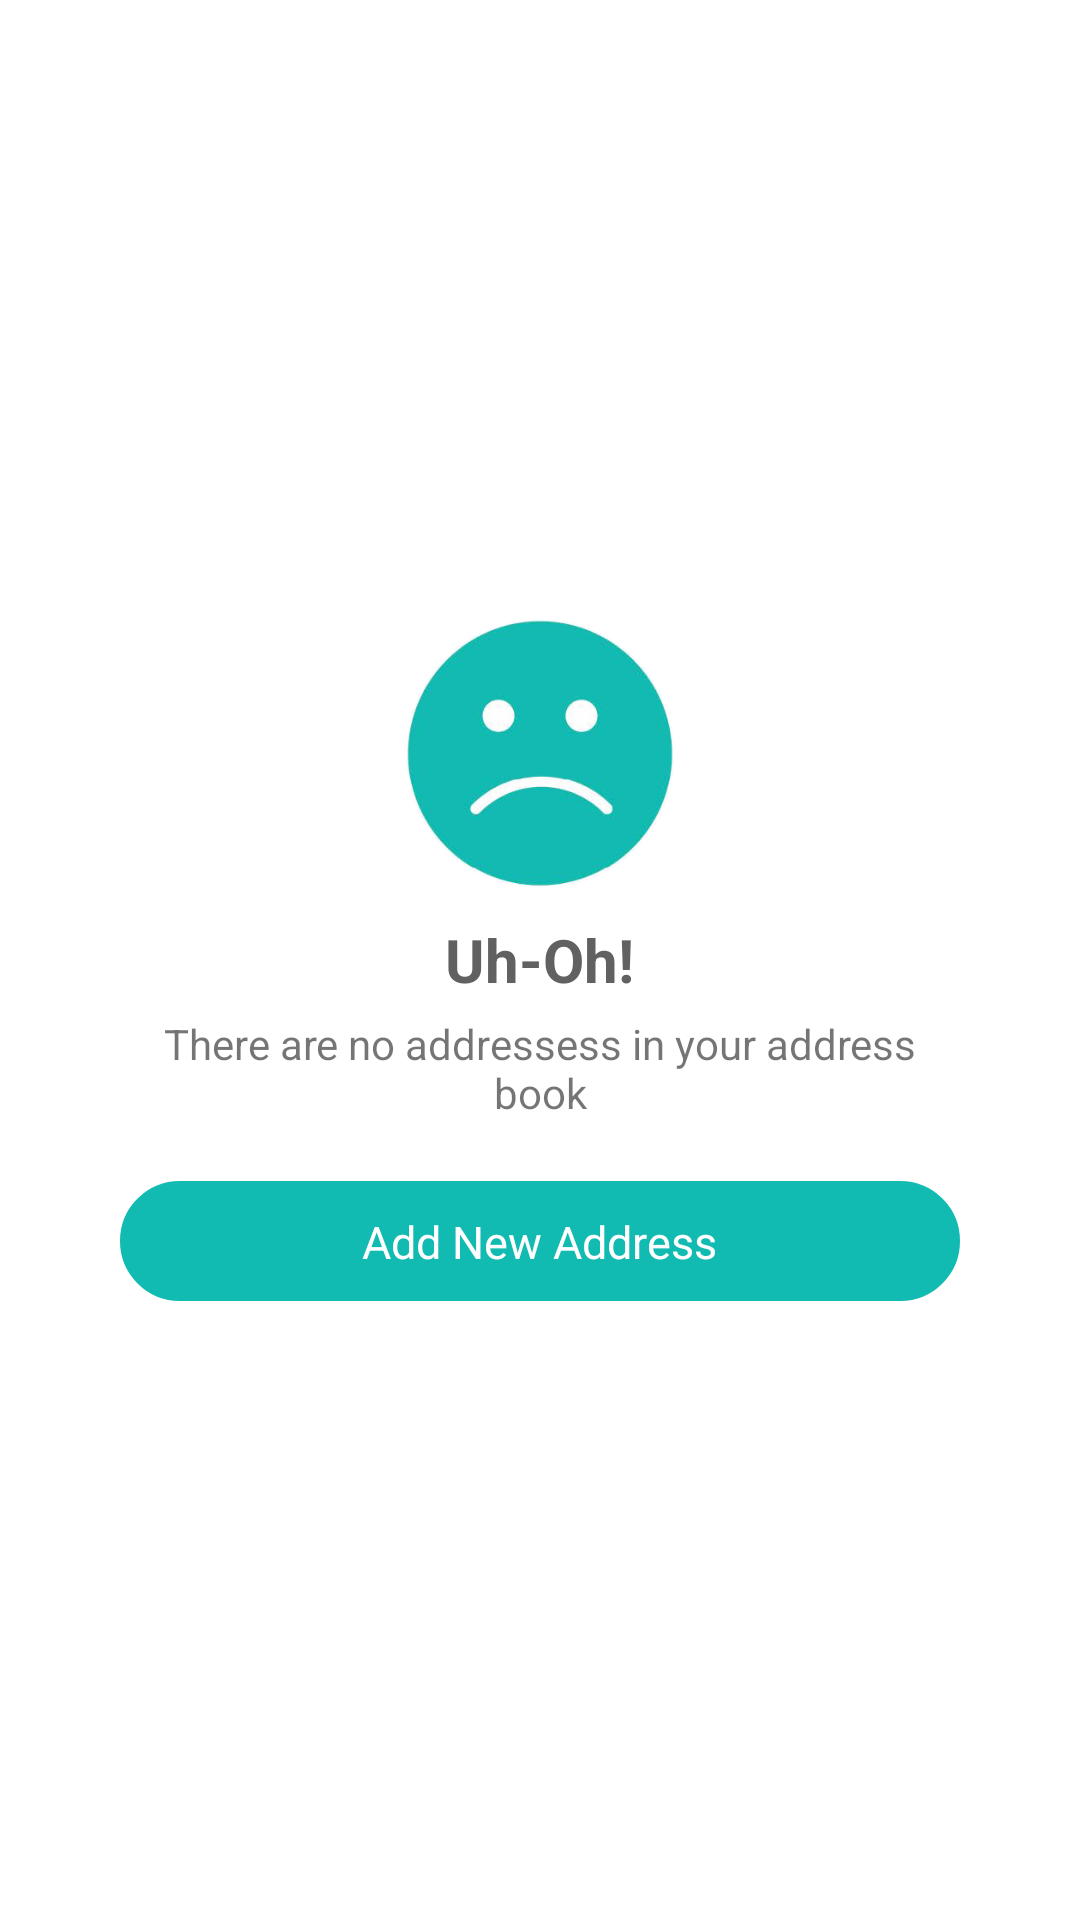

Locate icon controls on the screen. Image size 1080*1920, boxes as (x1, y1, x2, y2).
sad: (407, 620, 673, 886)
